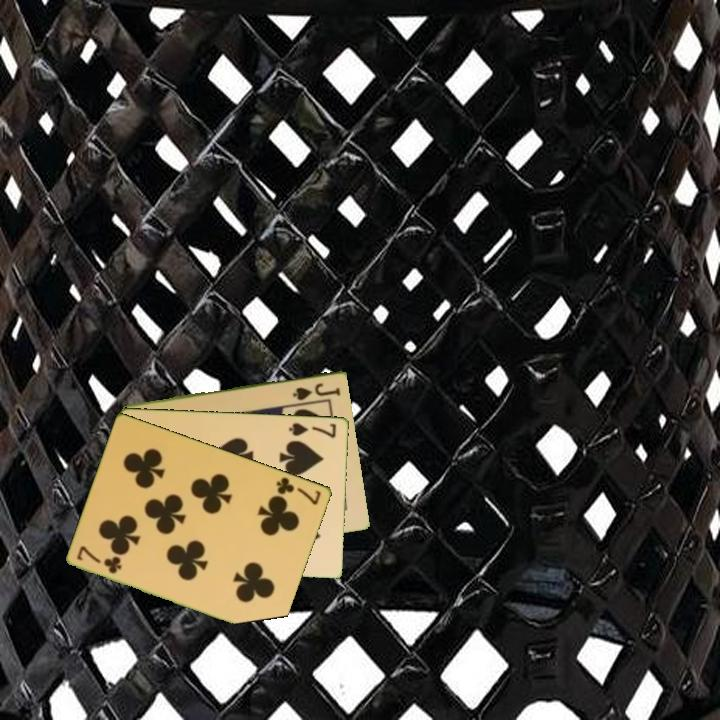7c: (273, 473, 324, 508), (73, 542, 125, 576)
7s: (286, 419, 339, 440)
Js: (290, 379, 343, 403)
